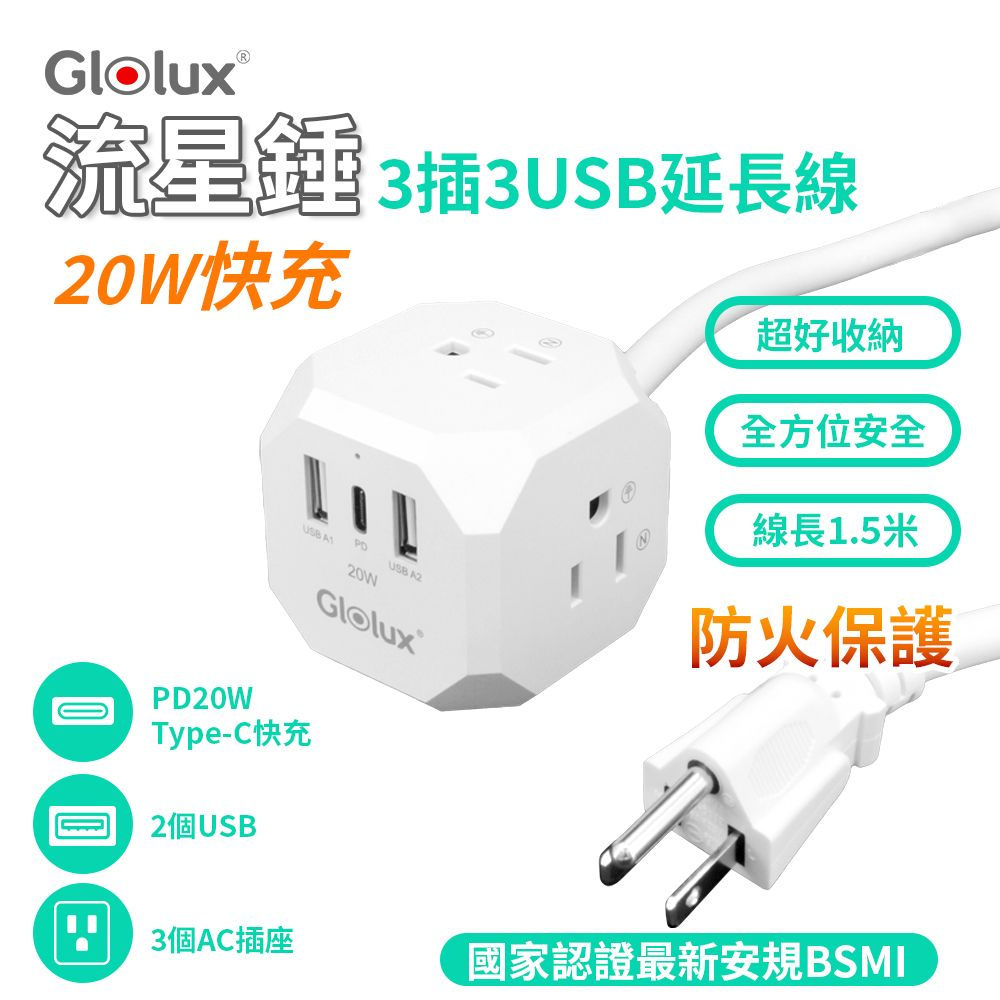socket: (255, 293, 674, 712)
